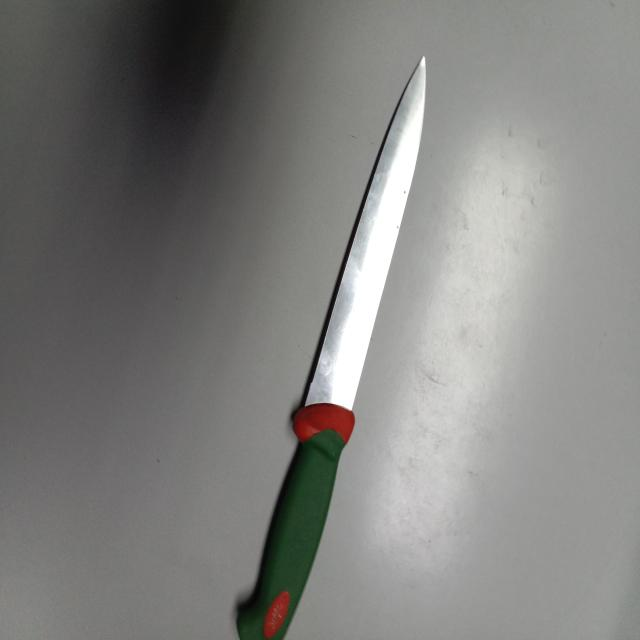Knife: (237, 60, 426, 640)
